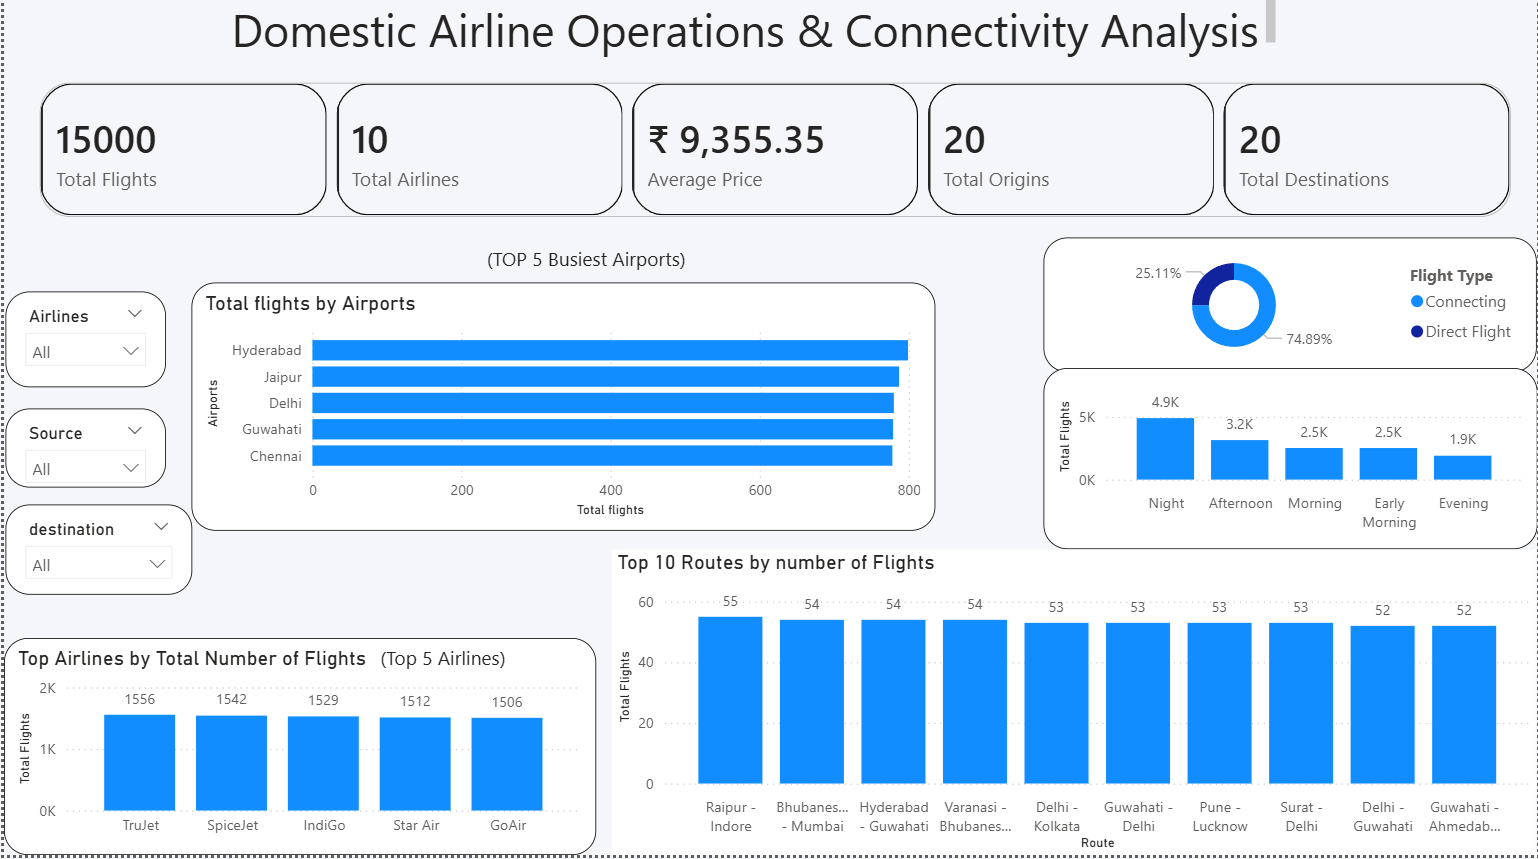

What the dashboard file says about the page in this screenshot:
{"tool":"powerbi","page":{"name":"Page 1","canvas":[1280,720],"ordinal":0},"visuals":[{"type":"cardVisual","fields":{"Data":["project flights.Total Flights","project flights.Total Airlines","project flights.Average Price","project flights.Total Origins","project flights.Total Destinations"]},"box":[12.5,57.6,1268,146.6],"z":0},{"type":"slicer","fields":{"Values":["project flights.airline"]},"box":[1.6,248.9,133.9,80.3],"z":1000},{"type":"slicer","fields":{"Values":["project flights.destination"]},"box":[1.6,426.8,155.9,75.6],"z":2000},{"type":"slicer","fields":{"Values":["project flights.Source"]},"box":[1.6,346.5,133.9,66.2],"z":3000},{"type":"donutChart","fields":{"Category":["project flight type.Flight Type"],"Y":["CountNonNull(project flight type.Flight Type)"]},"box":[868.3,204.2,412.2,112.8],"z":4000},{"type":"clusteredBarChart","fields":{"Category":["project flights per airline.Airports"],"Y":["Sum(project flights per airline.Total flights)"]},"box":[157.2,242.3,621.1,207.5],"z":5000},{"type":"textbox","box":[398.4,205.5,369.6,32.6],"z":6000},{"type":"columnChart","title":"Top Airlines by Total Number of Flights","fields":{"Category":["project flight per airline.airline"],"Y":["Sum(project flight per airline.Total Flights)"]},"box":[0,538.7,494.6,181.1],"z":7000},{"type":"textbox","box":[184.8,0,881.8,69.7],"z":8000},{"type":"columnChart","fields":{"Category":["project flight time category.Flight Time Category"],"Y":["CountNonNull(project flight time category.Flight Time Category)"]},"box":[867.9,313.4,412.7,151.2],"z":9000},{"type":"textbox","box":[309.3,538.6,152.1,37.4],"z":10000},{"type":"columnChart","title":"Top 10 Routes by number of Flights","fields":{"Category":["project route by flights.Route"],"Y":["Sum(project route by flights.Total Flights)"]},"box":[507.7,465.2,771.9,255.1],"z":11000}]}

Visuals, with their boxes in screenshot pixels (x1, y1, x2, y2), scaled from the page's 1280x720 canvas onto the 1538x859 screenshot:
cardVisual - project flights.Total Flights x project flights.Total Airlines: detection(15, 69, 1537, 244)
slicer - project flights.airline: detection(2, 297, 163, 393)
slicer - project flights.destination: detection(2, 509, 189, 599)
slicer - project flights.Source: detection(2, 413, 163, 492)
donutChart - project flight type.Flight Type x CountNonNull(project flight type.Flight Type): detection(1043, 244, 1537, 378)
clusteredBarChart - project flights per airline.Airports x Sum(project flights per airline.Total flights): detection(189, 289, 935, 537)
textbox: detection(479, 245, 923, 284)
"Top Airlines by Total Number of Flights" columnChart: detection(0, 643, 594, 858)
textbox: detection(222, 0, 1282, 83)
columnChart - project flight time category.Flight Time Category x CountNonNull(project flight time category.Flight Time Category): detection(1043, 374, 1537, 554)
textbox: detection(372, 643, 554, 687)
"Top 10 Routes by number of Flights" columnChart: detection(610, 555, 1537, 858)
